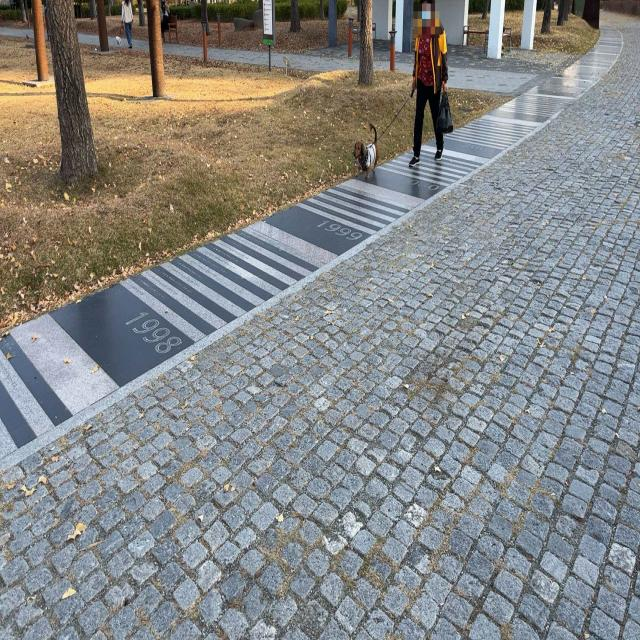Leashed_Dog: (352, 82, 422, 182)
